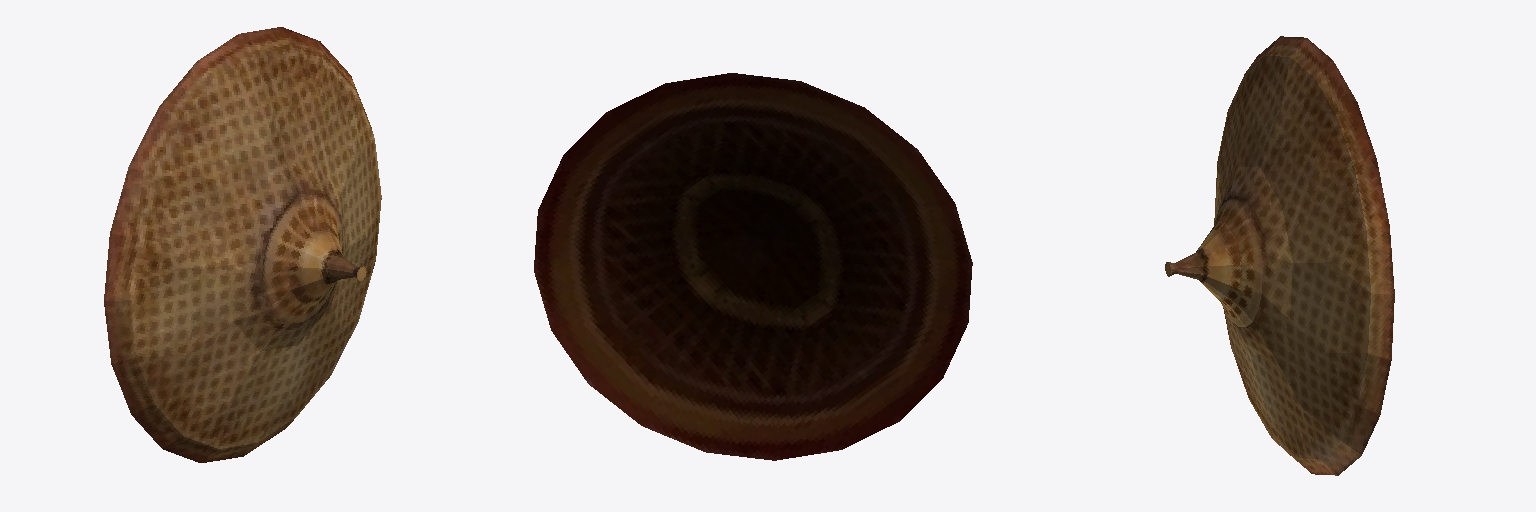
3 renders of one model, left to right at view 1: azimuth 30°, elevation 25°; view 2: azimuth 150°, elevation 25°; view 3: azimuth 270°, elevation 25°, orthographic.
Parts seen in each view (by area): view 1: dynamic; view 2: dynamic; view 3: dynamic.
Part boxes in pixels (left/top/right/bottom): dynamic: left=104, top=27, right=381, bottom=462; dynamic: left=534, top=73, right=972, bottom=460; dynamic: left=1165, top=36, right=1394, bottom=475.
Bounding box in the file's own units: 5.2 × 5.58 × 2.9.
1 materials, 1 textured.